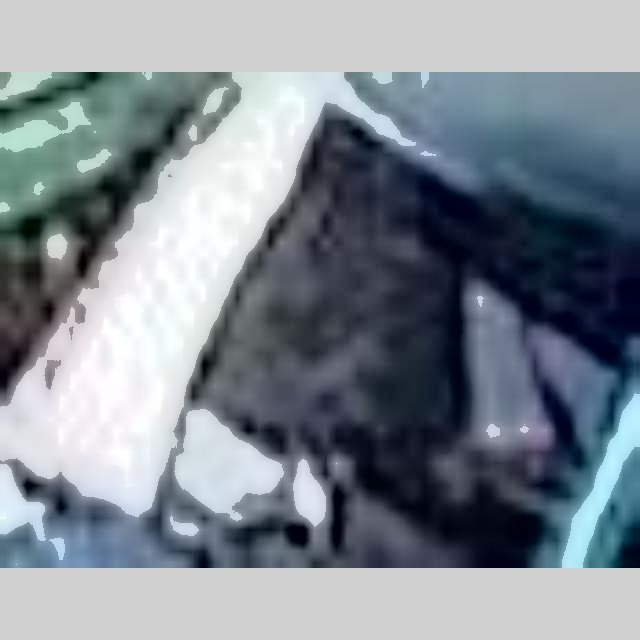pakai: (331, 238, 596, 502)
